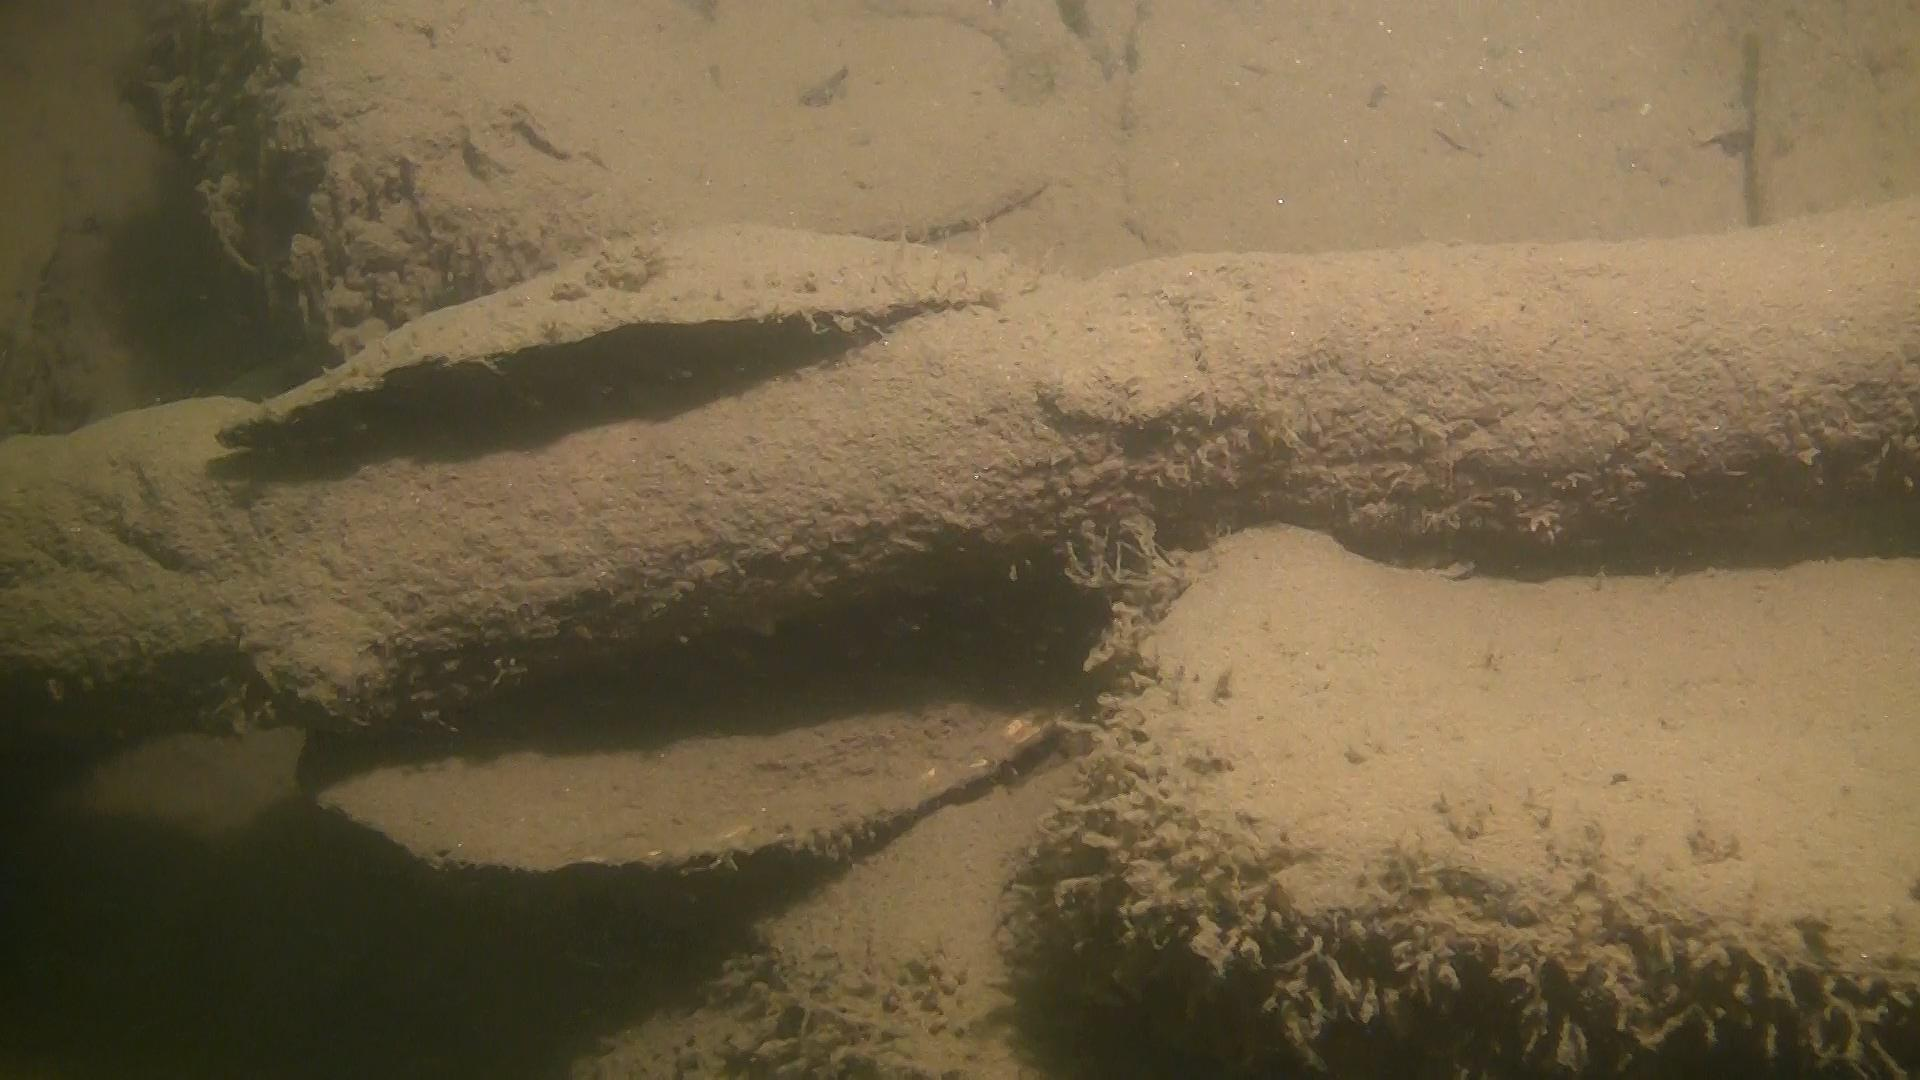wood: (0, 193, 1920, 731)
